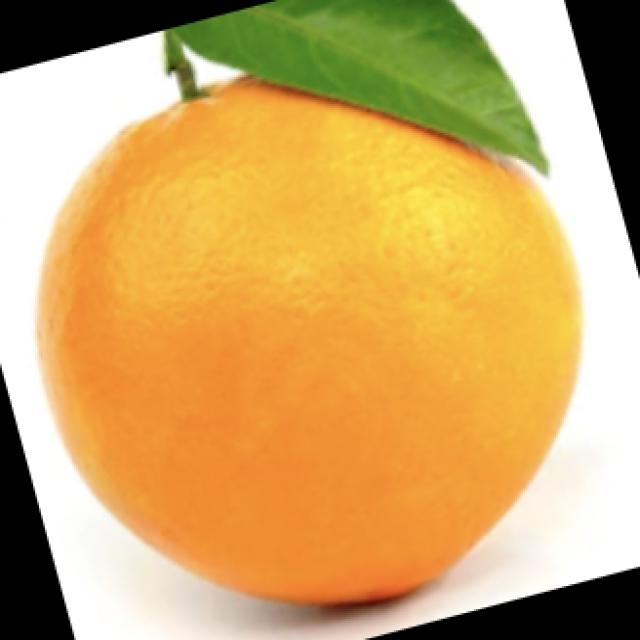fresh: (15, 12, 586, 622)
